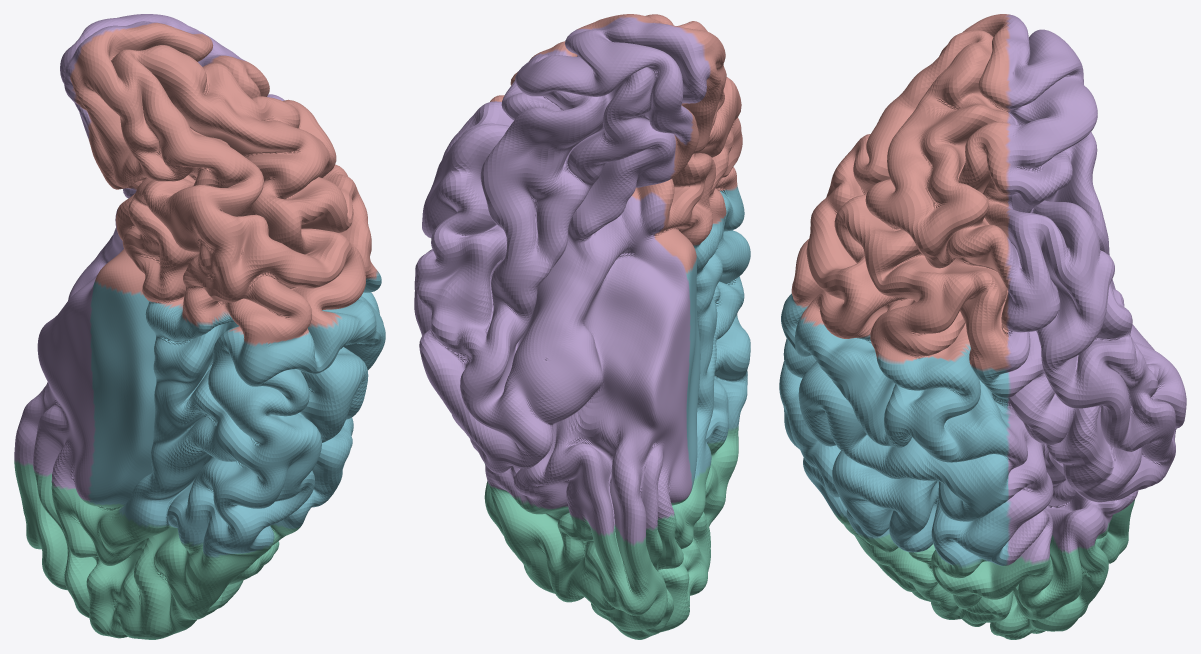
Rendered from bigbrain-left.glb.
3 renders of one model, left to right at view 1: azimuth 30°, elevation 25°; view 2: azimuth 150°, elevation 25°; view 3: azimuth 270°, elevation 25°, orthographic.
Parts seen in each view (by area): view 1: STL generated by MeshLab; view 2: STL generated by MeshLab; view 3: STL generated by MeshLab.
Boxes of the visible parts, box(x1,y1,x2,y2) form: STL generated by MeshLab: box(14, 14, 385, 639); STL generated by MeshLab: box(414, 14, 750, 639); STL generated by MeshLab: box(779, 14, 1186, 639).
Size of the model in its own units: 0.8366 by 1.83 by 1.12.
